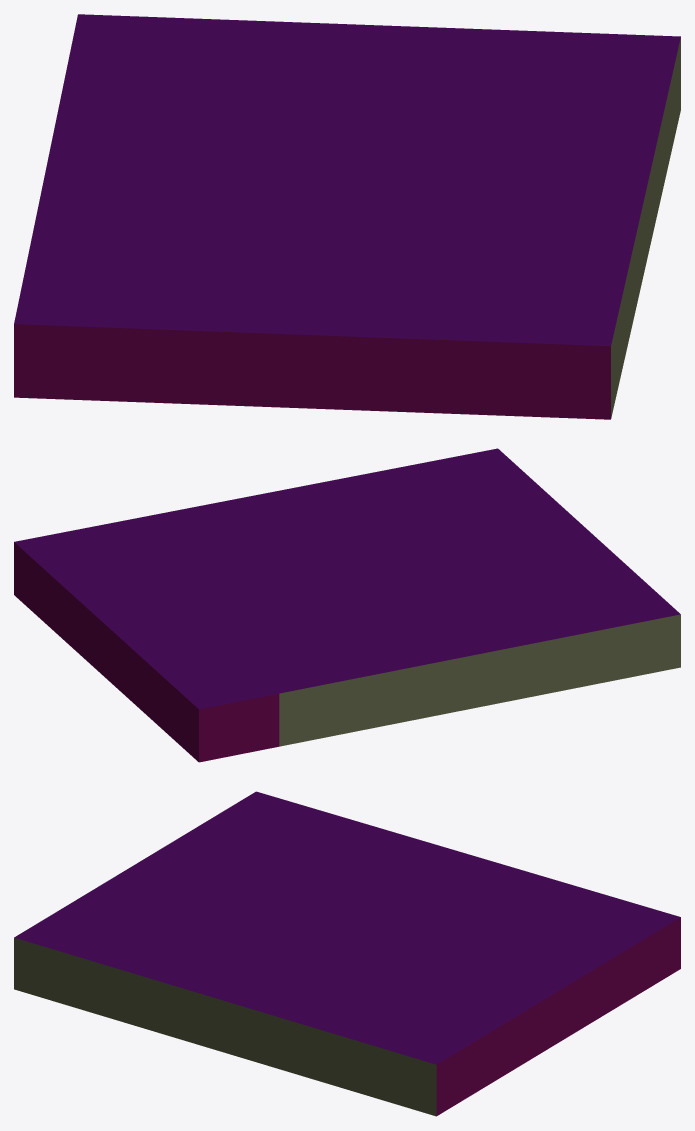
File: buildings_14_5.glb
The picture shows the model from 3 angles, top to bottom: view 1: azimuth 30°, elevation 25°; view 2: azimuth 150°, elevation 25°; view 3: azimuth 270°, elevation 25°; orthographic projection. The views are drawn at different scales.
Parts seen in each view (by area): view 1: buildings_14_5; view 2: buildings_14_5; view 3: buildings_14_5.
Part boxes in pixels (x1=…): buildings_14_5: x1=14, y1=14, x2=680, y2=419; buildings_14_5: x1=14, y1=448, x2=680, y2=762; buildings_14_5: x1=14, y1=791, x2=680, y2=1116.
Bounding box in the file's own units: 49.41 × 4.37 × 50.97.
